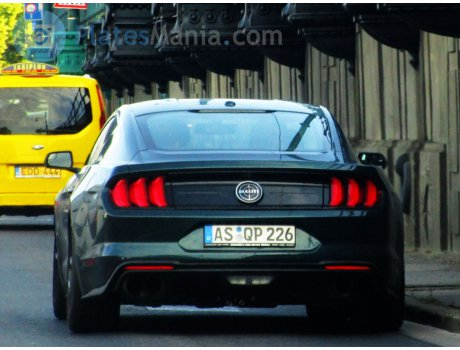License Plates: (211, 224, 293, 242)
